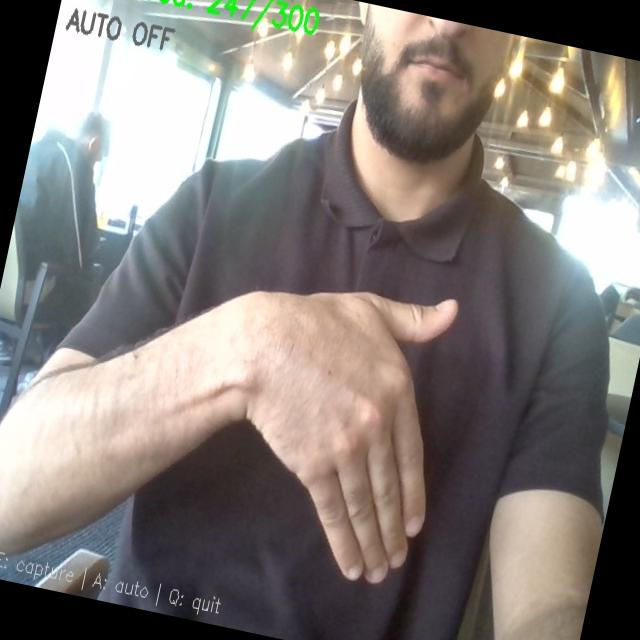Hand: (246, 293, 456, 583)
